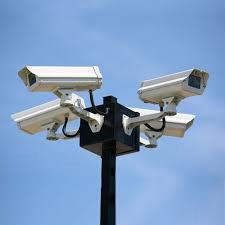Speed-Camera: (11, 93, 96, 137), (14, 57, 108, 95), (137, 66, 215, 107), (130, 100, 200, 143)
